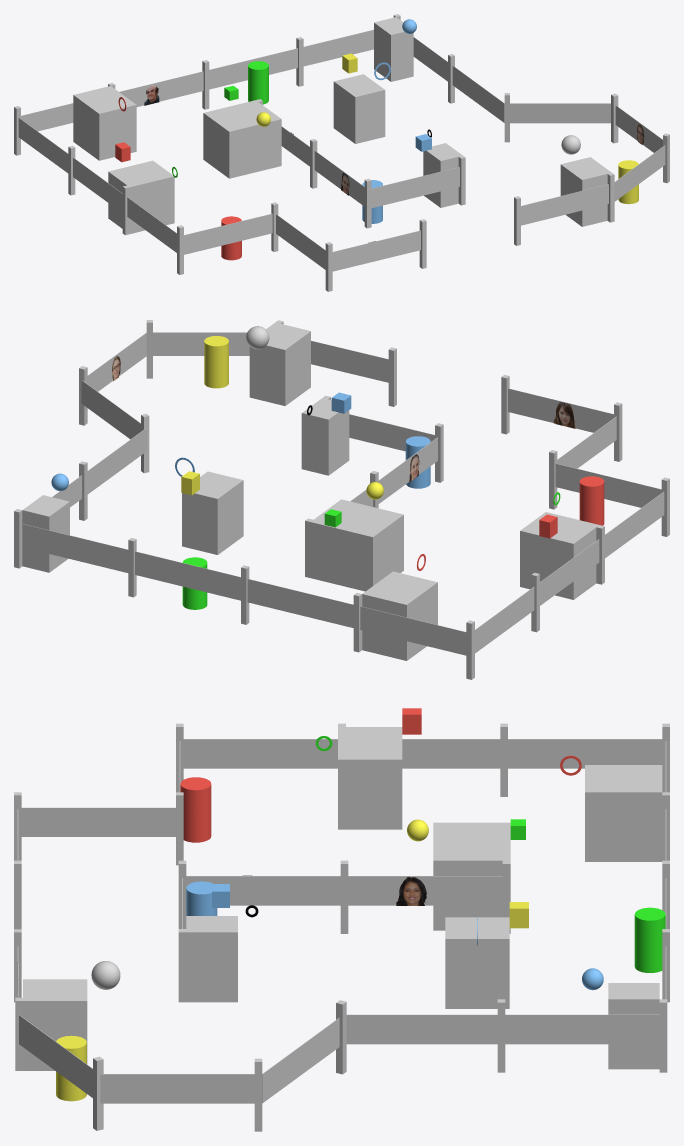
File: rins_task2_new.dae
3 renders of one model, top to bottom at view 1: azimuth 30°, elevation 25°; view 2: azimuth 150°, elevation 25°; view 3: azimuth 270°, elevation 25°, orthographic. The views are drawn at different scales.
Parts seen in each view (by area): view 1: Mesh44_Group44_Model, Mesh45_Group45_Model, Mesh47_Group47_Model, Mesh48_Group48_Model, Mesh1_Group2_Group1_Model, Mesh17_Group18_Group17_Model, Mesh23_Group24_Group23_Model, Mesh49_Group49_Model, Mesh11_Group12_Group11_Model, Mesh27_Group28_Group27_Model, Mesh43_Group43_Model, Mesh39_Group40_Group39_Model (+17 smaller); view 2: Mesh44_Group44_Model, Mesh47_Group47_Model, Mesh43_Group43_Model, Mesh48_Group48_Model, Mesh45_Group45_Model, Mesh46_Group46_Model, Mesh37_Group38_Group37_Model, Mesh5_Group6_Group5_Model, Mesh39_Group40_Group39_Model, Mesh41_Group42_Group41_Model, Mesh17_Group18_Group17_Model, Mesh27_Group28_Group27_Model (+17 smaller); view 3: Mesh45_Group45_Model, Mesh48_Group48_Model, Mesh47_Group47_Model, Mesh33_Group34_Group33_Model, Mesh3_Group4_Group3_Model, Mesh9_Group10_Group9_Model, Mesh7_Group8_Group7_Model, Mesh44_Group44_Model, Mesh29_Group30_Group29_Model, Mesh35_Group36_Group35_Model, Mesh15_Group16_Group15_Model, Mesh46_Group46_Model (+15 smaller).
Part boxes in pixels (x1,y1,x2,y2): Mesh44_Group44_Model: [203, 100, 281, 178]; Mesh45_Group45_Model: [73, 86, 136, 160]; Mesh47_Group47_Model: [333, 74, 385, 143]; Mesh48_Group48_Model: [108, 160, 174, 233]; Mesh1_Group2_Group1_Model: [504, 93, 610, 142]; Mesh17_Group18_Group17_Model: [332, 219, 426, 271]; Mesh23_Group24_Group23_Model: [371, 155, 465, 207]; Mesh49_Group49_Model: [374, 17, 413, 81]; Mesh11_Group12_Group11_Model: [521, 173, 614, 225]; Mesh27_Group28_Group27_Model: [184, 202, 278, 254]; Mesh43_Group43_Model: [560, 157, 611, 226]; Mesh39_Group40_Group39_Model: [202, 48, 297, 109]; Mesh44_Group44_Model: [310, 499, 403, 591]; Mesh47_Group47_Model: [182, 471, 243, 554]; Mesh43_Group43_Model: [249, 322, 310, 405]; Mesh48_Group48_Model: [520, 512, 598, 599]; Mesh45_Group45_Model: [362, 571, 437, 660]; Mesh46_Group46_Model: [301, 398, 349, 475]; Mesh37_Group38_Group37_Model: [247, 579, 362, 652]; Mesh5_Group6_Group5_Model: [360, 606, 474, 679]; Mesh39_Group40_Group39_Model: [135, 551, 249, 624]; Mesh41_Group42_Group41_Model: [22, 524, 136, 597]; Mesh17_Group18_Group17_Model: [501, 375, 613, 434]; Mesh27_Group28_Group27_Model: [549, 450, 661, 509]; Mesh45_Group45_Model: [585, 765, 662, 861]; Mesh48_Group48_Model: [338, 727, 402, 829]; Mesh47_Group47_Model: [445, 917, 509, 1008]; Mesh33_Group34_Group33_Model: [505, 999, 667, 1072]; Mesh3_Group4_Group3_Model: [346, 999, 505, 1072]; Mesh9_Group10_Group9_Model: [100, 1058, 262, 1131]; Mesh7_Group8_Group7_Model: [14, 792, 175, 860]; Mesh44_Group44_Model: [433, 822, 510, 930]; Mesh29_Group30_Group29_Model: [176, 723, 337, 792]; Mesh35_Group36_Group35_Model: [500, 723, 662, 796]; Mesh15_Group16_Group15_Model: [340, 860, 502, 933]; Mesh46_Group46_Model: [186, 916, 237, 1002].
Bounding box in the file's own units: 6.22 × 5.1 × 0.8505.
11 materials, 5 textured.
